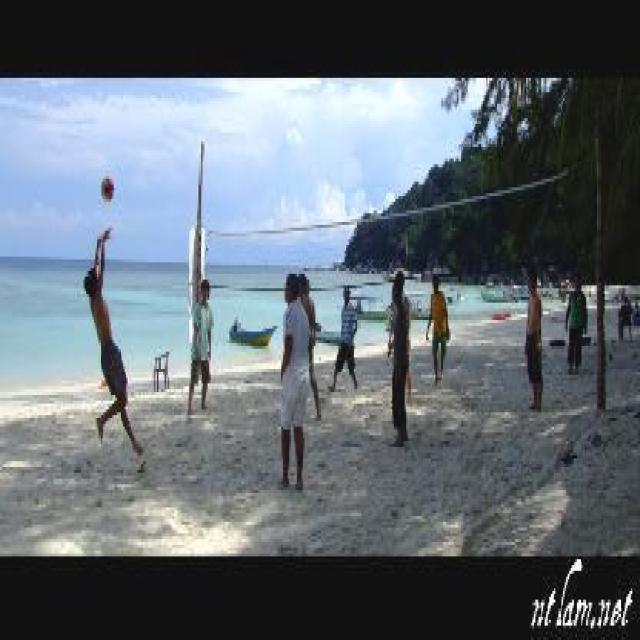volleyball: (100, 175, 114, 203)
